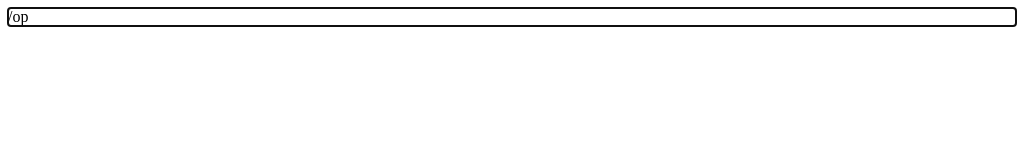
pills in RichMentionInput › keeps a picked command as text with commandPills={false}
Later steps or results of the test are not shown.
Clear the field at {"x": 18, "y": 16}, box [8,8,28,25]
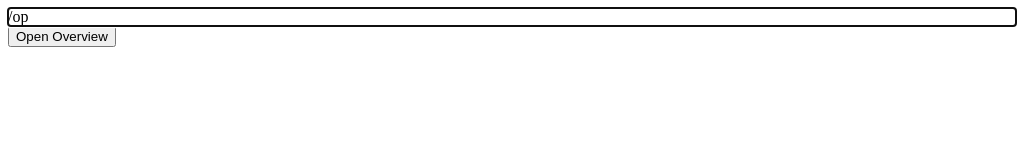
Result: the list is shown at [8,26,116,47]
